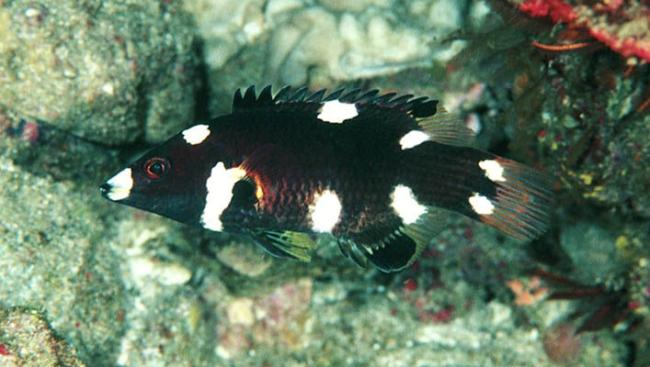fish: (100, 85, 554, 274)
